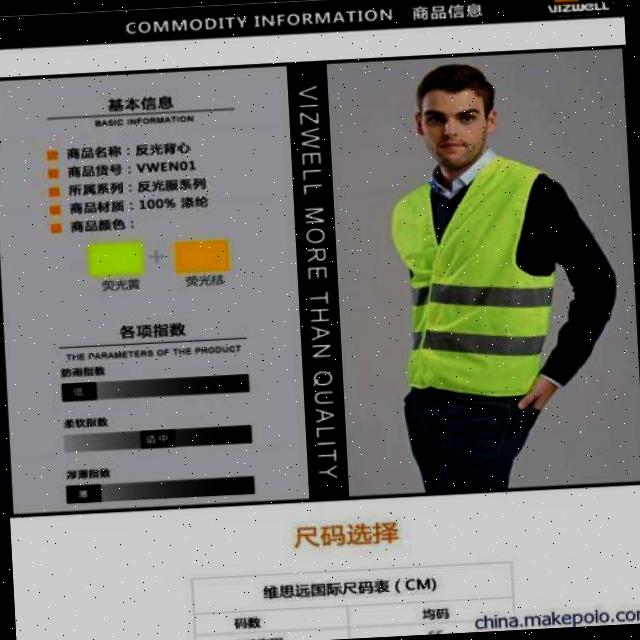vest: (396, 174, 550, 410)
